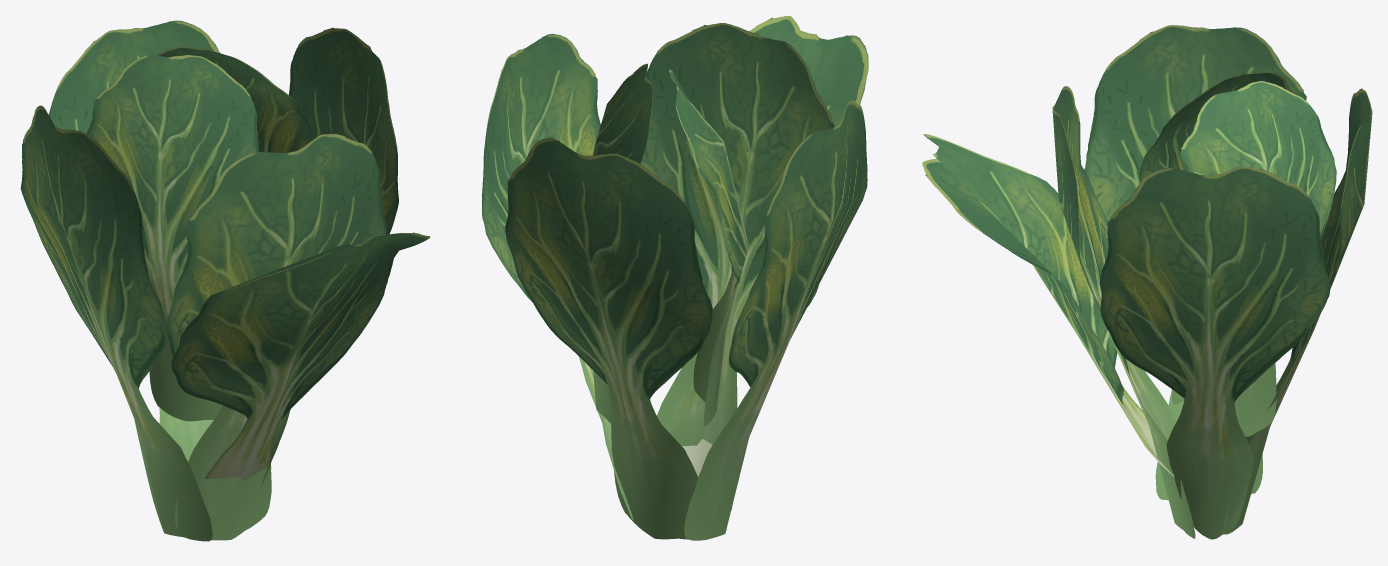
File: pakchoi.fbx
3 renders of one model, left to right at view 1: azimuth 30°, elevation 25°; view 2: azimuth 150°, elevation 25°; view 3: azimuth 270°, elevation 25°, orthographic. The views are drawn at different scales.
Visible parts, largest first — view 1: polySurface11, PakChoOuterLeaf; view 2: polySurface11, PakChoOuterLeaf; view 3: polySurface11, PakChoOuterLeaf.
Part boxes in pixels (box(x1,y1,x2,y2)): polySurface11: box(20, 20, 398, 541); PakChoOuterLeaf: box(171, 232, 429, 480); polySurface11: box(482, 23, 867, 540); PakChoOuterLeaf: box(682, 15, 868, 476); polySurface11: box(1052, 25, 1372, 539); PakChoOuterLeaf: box(922, 134, 1174, 476).
Size of the model in its own units: 28.97 by 41.54 by 37.44.
1 material, 1 textured.
